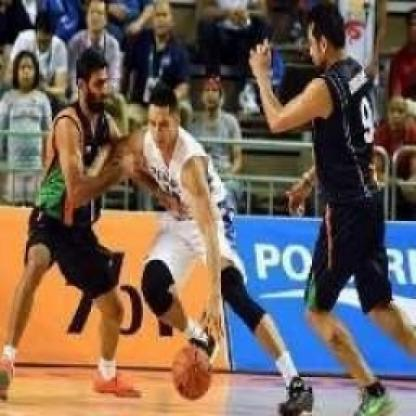basketball: (173, 345, 214, 400)
